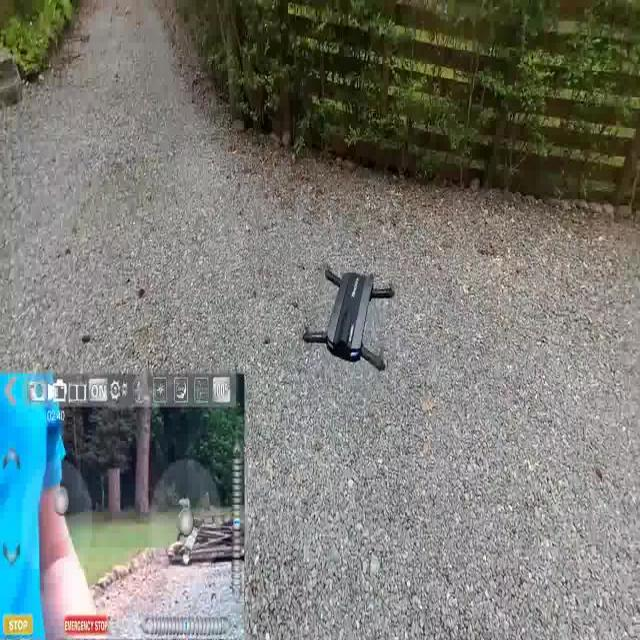drone: (301, 260, 398, 379)
